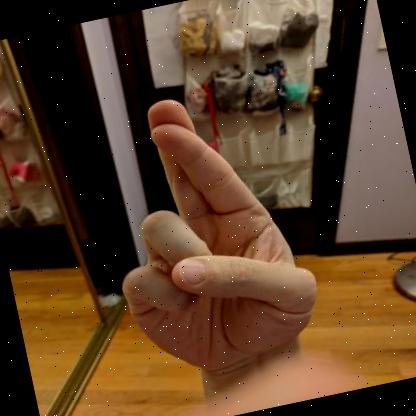R: (122, 99, 317, 376)
